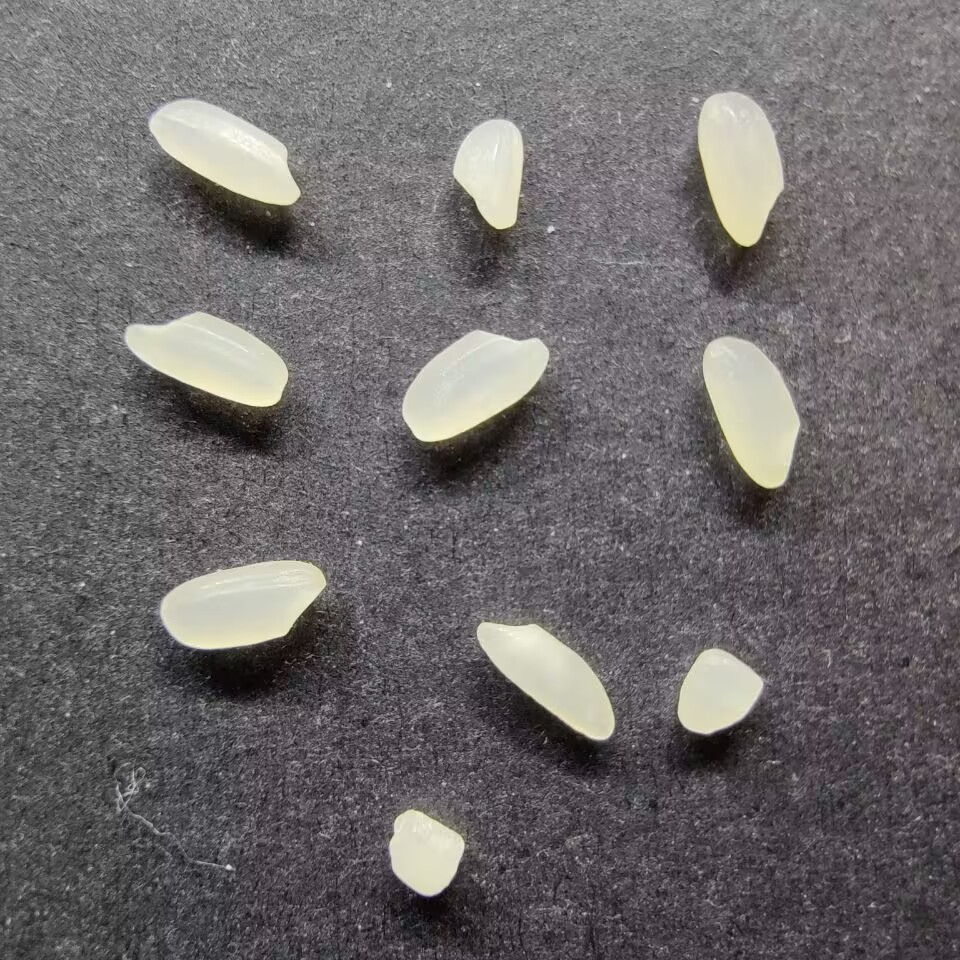broken: (450, 116, 525, 230), (677, 647, 769, 736), (386, 808, 467, 899)
rice: (473, 619, 617, 742), (401, 327, 553, 443), (147, 97, 301, 208), (121, 309, 289, 409), (701, 333, 802, 491), (158, 560, 326, 650), (696, 91, 786, 247)
